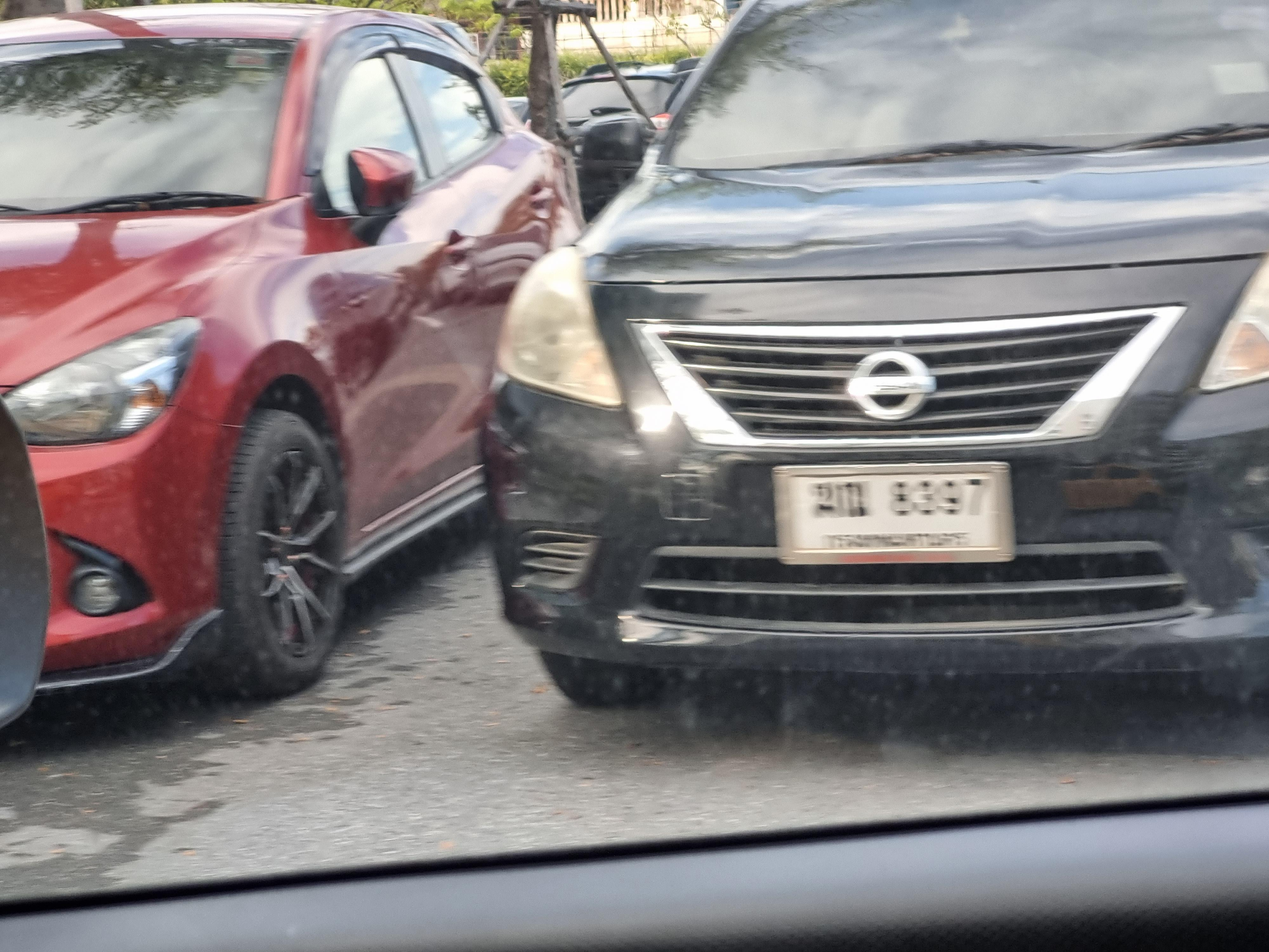license-plate: (769, 455, 1017, 576)
